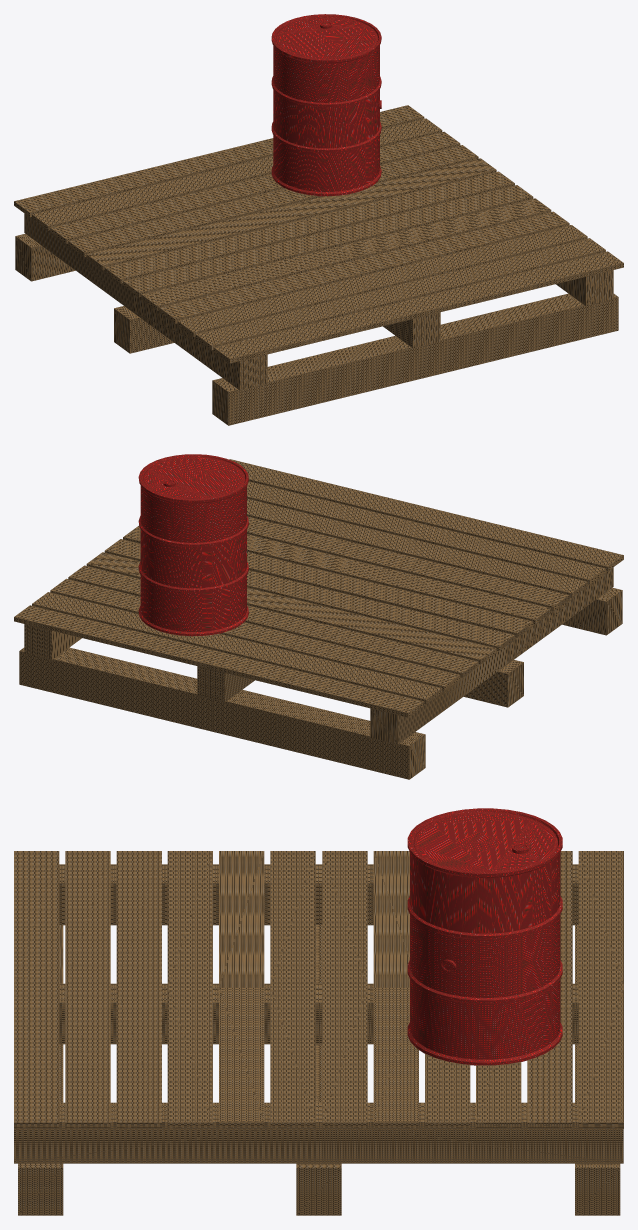
Rendered from Neoflycargo_flammable_l_1.gltf.
3 views of the same model, one above another, from view 1: azimuth 30°, elevation 25°; view 2: azimuth 150°, elevation 25°; view 3: azimuth 270°, elevation 25° (orthographic). The views are drawn at different scales.
Parts seen in each view (by area): view 1: Neoflycargo00, Neoflycargo04.001; view 2: Neoflycargo00, Neoflycargo04.001; view 3: Neoflycargo00, Neoflycargo04.001.
Boxes of the visible parts, x1,y1,x2,y2 form: Neoflycargo00: [14, 105, 623, 425]; Neoflycargo04.001: [271, 14, 381, 196]; Neoflycargo00: [14, 459, 623, 779]; Neoflycargo04.001: [138, 454, 248, 636]; Neoflycargo00: [14, 851, 623, 1215]; Neoflycargo04.001: [407, 808, 562, 1065].
Bounding box in the file's own units: 1.28 × 0.6367 × 1.22.
